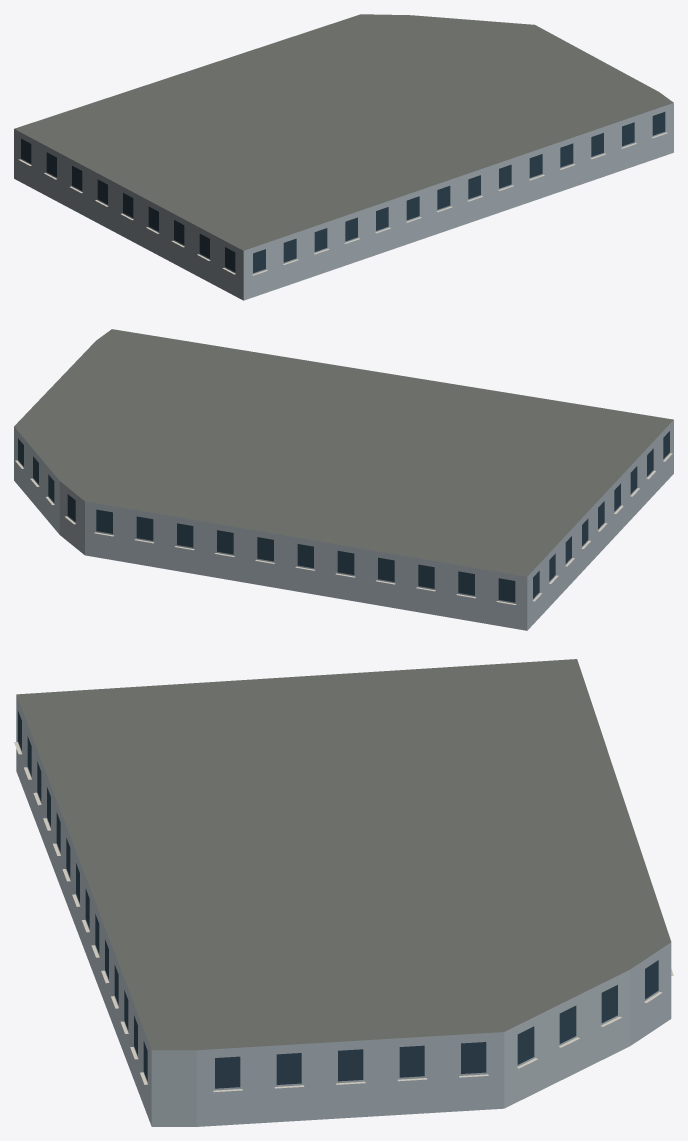
3 renders of one model, top to bottom at view 1: azimuth 30°, elevation 25°; view 2: azimuth 150°, elevation 25°; view 3: azimuth 270°, elevation 25°, orthographic. The views are drawn at different scales.
Parts seen in each view (by area): view 1: Footprint 0, Inferred window bays, Window sills; view 2: Footprint 0, Inferred window bays, Window sills; view 3: Footprint 0, Inferred window bays, Window sills.
Boxes of the visible parts, x1,y1,x2,y2 form: Footprint 0: [14, 14, 673, 300]; Inferred window bays: [21, 112, 665, 273]; Window sills: [18, 132, 667, 275]; Footprint 0: [14, 329, 673, 630]; Inferred window bays: [18, 431, 669, 602]; Window sills: [15, 453, 672, 604]; Footprint 0: [16, 659, 671, 1126]; Inferred window bays: [18, 711, 658, 1088]; Window sills: [14, 742, 673, 1092].
Size of the model in its own units: 45.44 by 4.13 by 32.22.
